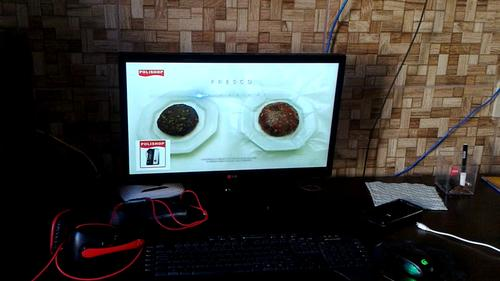Polishop #1: (134, 139, 170, 173)
